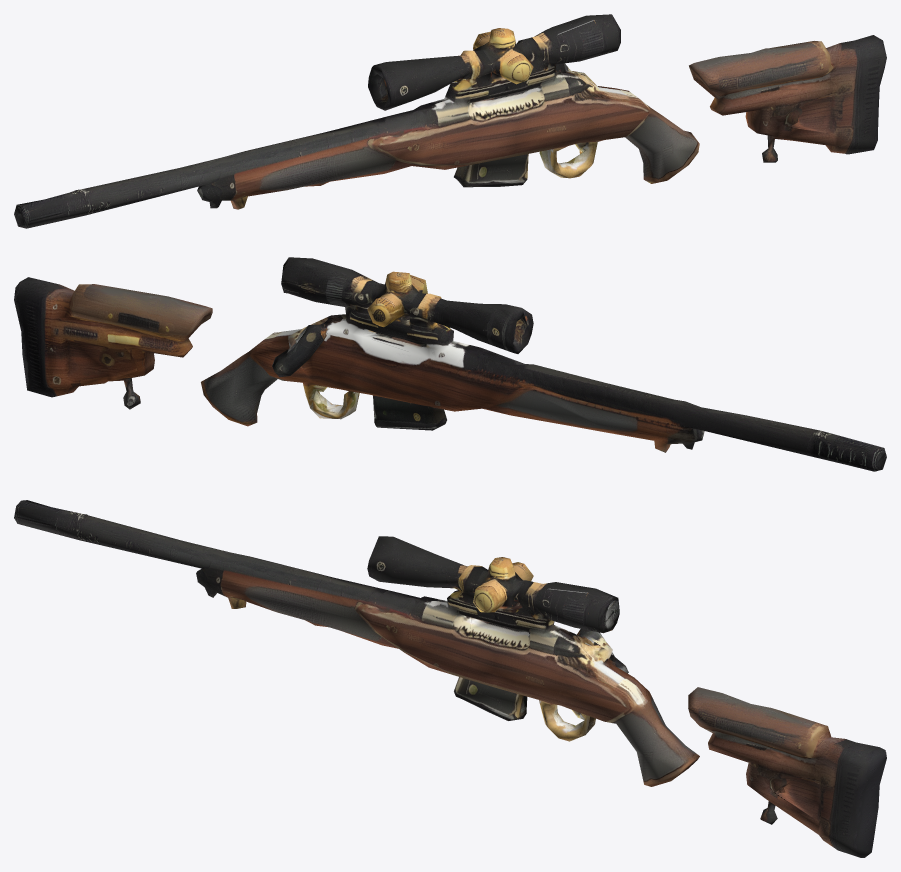
File: Meshy_AI_Post_apocalyptic_stea_0508201607_texture.fbx
The picture shows the model from 3 angles, top to bottom: view 1: azimuth 30°, elevation 25°; view 2: azimuth 150°, elevation 25°; view 3: azimuth 330°, elevation 25°; orthographic projection.
Parts seen in each view (by area): view 1: Mesh1.0; view 2: Mesh1.0; view 3: Mesh1.0.
Boxes of the visible parts, box(x1,y1,x2,y2) form: Mesh1.0: box(14, 14, 886, 228); Mesh1.0: box(14, 257, 886, 471); Mesh1.0: box(14, 500, 886, 857).
Size of the model in its own units: 95.3 by 22 by 8.53.
1 material, 1 textured.
